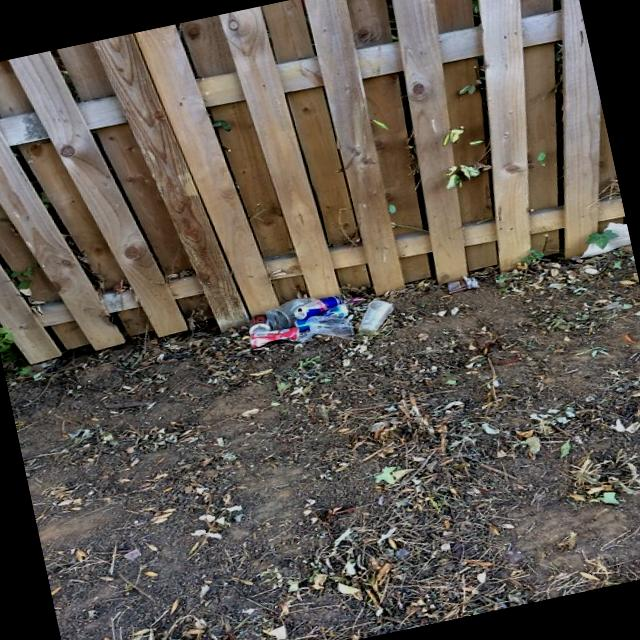Recycle: (242, 316, 306, 352), (303, 308, 357, 347), (258, 294, 318, 328), (354, 294, 399, 336), (292, 292, 351, 318)
Trash: (571, 218, 633, 264), (442, 265, 500, 295)
